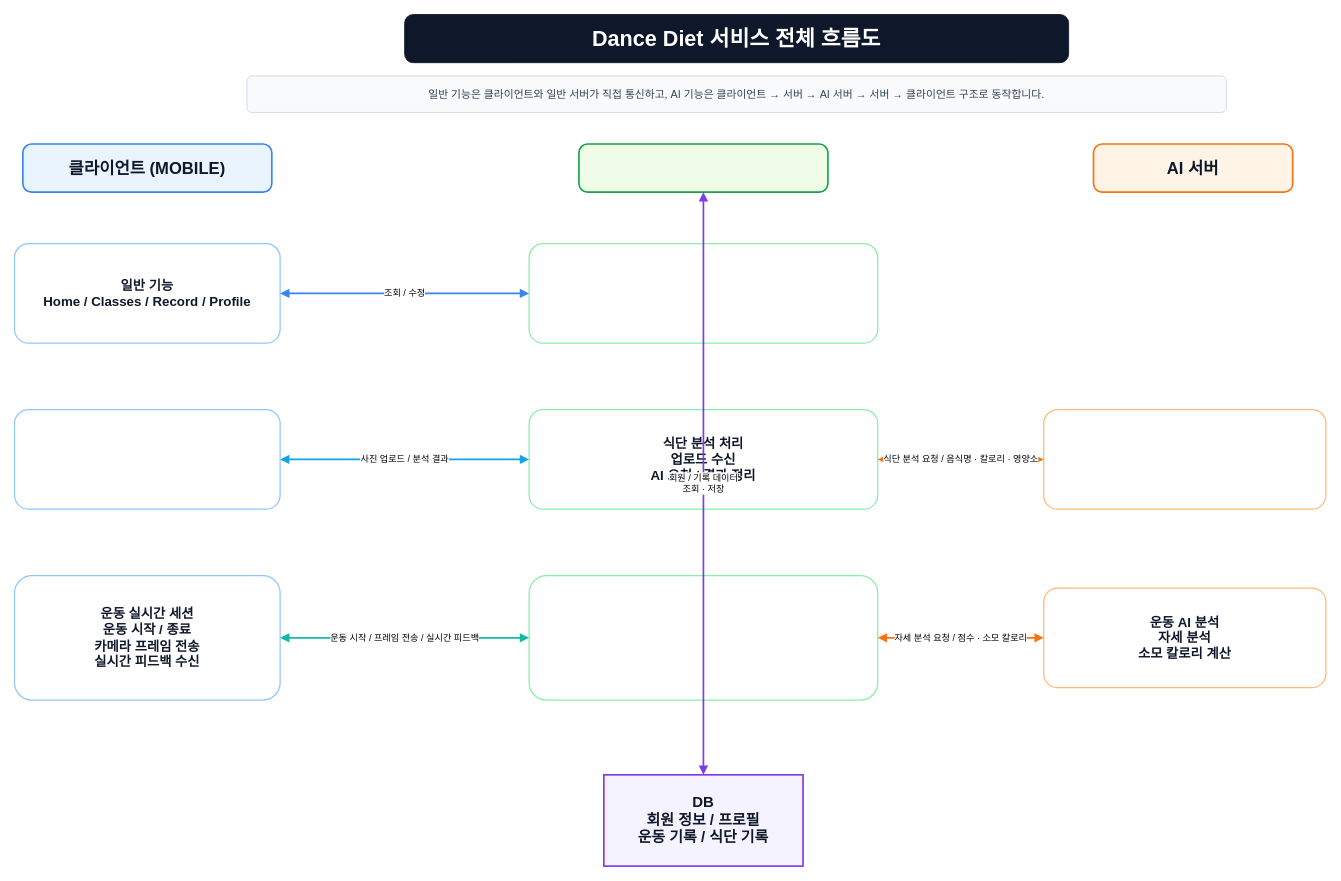
This 1341x881 diagram has some shape labels left out. The shapes that lost their labels are listed below. From the top down, each one's box as (x1, y1, x2, y2) in pixels, then its label:
(578, 143, 828, 193): 일반 서버
(528, 243, 878, 343): 일반 API 처리 회원 / 프로필 / 기록 조회 수정 요청 처리
(14, 409, 280, 509): 식단 분석 음식 사진 촬영 / 업로드 분석 결과 확인
(1043, 409, 1326, 509): 식단 AI 분석 음식 이미지 분석 칼로리 / 영양소 추정
(528, 575, 878, 700): 운동 세션 처리 세션 생성 프레임 수신 실시간 결과 반환
